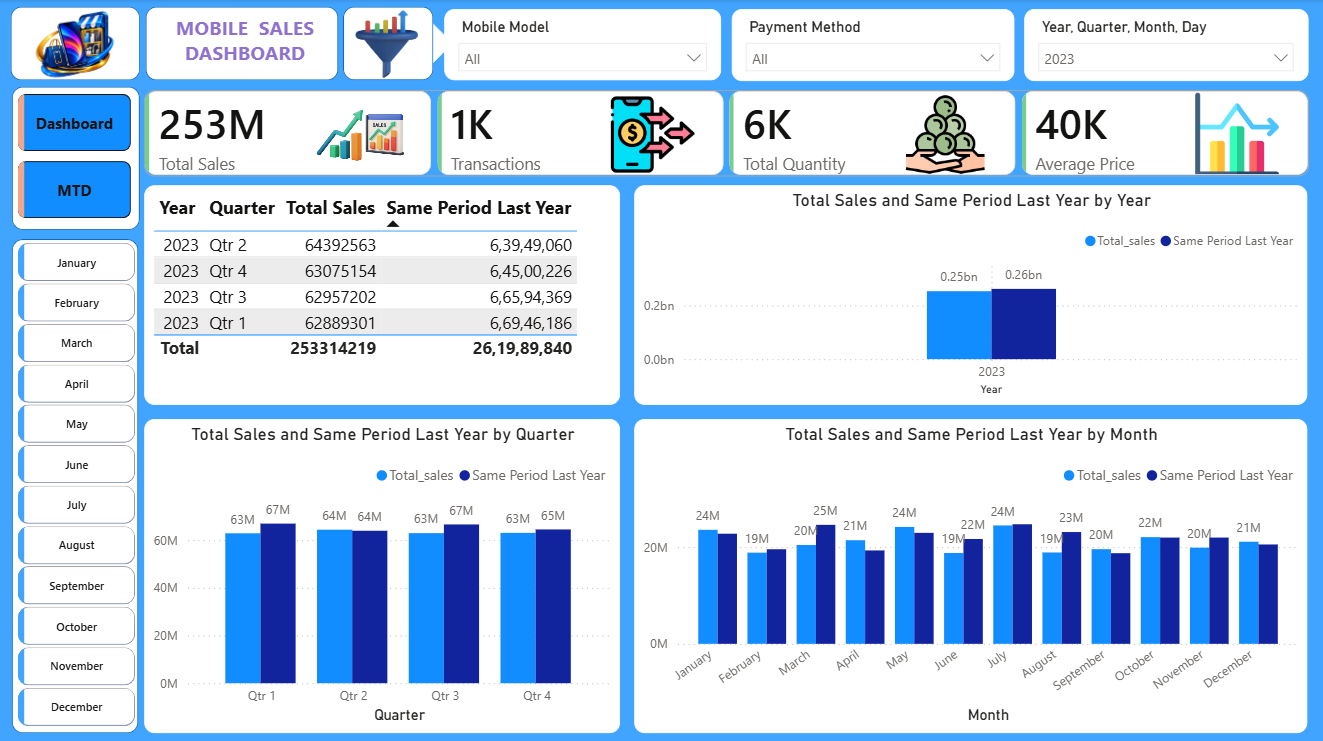

The dashboard page shown, as its layout file describes it:
{"tool":"powerbi","page":{"name":"Same Period Last Year","canvas":[1280,720],"ordinal":2},"visuals":[{"type":"shape","box":[375.6,13.5,64.1,58.9],"z":0},{"type":"shape","box":[11.7,7,125.1,71.4],"z":1000},{"type":"slicer","title":"Mobile Brand","fields":{"Values":["Sales_data.Mobile Model"]},"box":[430.1,9.4,267.3,68.5],"z":2000},{"type":"image","box":[21,120.4,118.8,63.1],"z":3000},{"type":"slicer","title":"Mobile Brand","fields":{"Values":["Sales_data.Payment Method"]},"box":[708.3,9.4,272.7,69.9],"z":4000},{"type":"shape","box":[13.1,84.1,123.6,138.6],"z":5000},{"type":"slicer","title":"Mobile Brand","fields":{"Values":["Custom_Calender.Date.Variation.Date Hierarchy.Year","Custom_Calender.Date.Variation.Date Hierarchy.Quarter","Custom_Calender.Date.Variation.Date Hierarchy.Month","Custom_Calender.Date.Variation.Date Hierarchy.Day"]},"box":[990.5,9.4,274.1,69.9],"z":6000},{"type":"shape","box":[333.3,6.7,87.3,71.3],"z":7000},{"type":"image","box":[329.2,9.4,91.4,68.5],"z":8000},{"type":"shape","box":[142.4,7,186.2,71.4],"z":9000},{"type":"image","box":[17.4,9.8,113.2,72.6],"z":10000},{"type":"textbox","box":[129.6,9.8,218.8,70],"z":11000},{"type":"shape","box":[13.1,231.2,122.2,477.1],"z":12000},{"type":"tableEx","fields":{"Values":["Custom_Calender.Date.Variation.Date Hierarchy.Year","Custom_Calender.Date.Variation.Date Hierarchy.Quarter","Sales_data.Total_sales","Sales_data.Same Period Last Year"]},"box":[141.7,179.8,459.3,211.7],"z":13000},{"type":"clusteredColumnChart","title":"Total Sales and Same Period Last Year by Year","fields":{"Category":["Custom_Calender.Date.Variation.Date Hierarchy.Year","Custom_Calender.Date.Variation.Date Hierarchy.Quarter"],"Y":["Sales_data.Total_sales","Sales_data.Same Period Last Year"]},"box":[614.2,179.8,649.9,211.7],"z":14000},{"type":"clusteredColumnChart","title":"Total Sales and Same Period Last Year by Quarter","fields":{"Category":["Custom_Calender.Date.Variation.Date Hierarchy.Year","Custom_Calender.Date.Variation.Date Hierarchy.Quarter"],"Y":["Sales_data.Total_sales","Sales_data.Same Period Last Year"]},"box":[141.7,404.8,459.3,303.3],"z":15000},{"type":"clusteredColumnChart","title":"Total Sales and Same Period Last Year by Month","fields":{"Category":["Custom_Calender.Date.Variation.Date Hierarchy.Year","Custom_Calender.Date.Variation.Date Hierarchy.Quarter","Custom_Calender.Date.Variation.Date Hierarchy.Month"],"Y":["Sales_data.Total_sales","Sales_data.Same Period Last Year"]},"box":[614.2,404.8,649.9,303.3],"z":16000},{"type":"pageNavigator","box":[19,91.5,109.4,121.7],"z":17000},{"type":"cardVisual","fields":{"Data":["Sales_data.Total_sales","Sales_data.Transcations","Sales_data.Total_Quantity","Sales_data.Average_price"]},"box":[129.6,75.5,1151.1,107.1],"z":18000},{"type":"advancedSlicerVisual","fields":{"Values":["Custom_Calender.Date.Variation.Date Hierarchy.Month"]},"box":[14.5,230.3,123.1,486.2],"z":19000}]}

Visuals, with their boxes in screenshot pixels (x1, y1, x2, y2), scaled from the page's 1280x720 canvas onto the 1323x741 screenshot:
shape: left=388, top=14, right=454, bottom=75
shape: left=12, top=7, right=141, bottom=81
"Mobile Brand" slicer: left=445, top=10, right=721, bottom=80
image: left=22, top=124, right=144, bottom=189
"Mobile Brand" slicer: left=732, top=10, right=1014, bottom=82
shape: left=14, top=87, right=141, bottom=229
"Mobile Brand" slicer: left=1024, top=10, right=1307, bottom=82
shape: left=344, top=7, right=435, bottom=80
image: left=340, top=10, right=435, bottom=80
shape: left=147, top=7, right=340, bottom=81
image: left=18, top=10, right=135, bottom=85
textbox: left=134, top=10, right=360, bottom=82
shape: left=14, top=238, right=140, bottom=729
tableEx - Custom_Calender.Date.Variation.Date Hierarchy.Year x Custom_Calender.Date.Variation.Date Hierarchy.Quarter: left=146, top=185, right=621, bottom=403
"Total Sales and Same Period Last Year by Year" clusteredColumnChart: left=635, top=185, right=1307, bottom=403
"Total Sales and Same Period Last Year by Quarter" clusteredColumnChart: left=146, top=417, right=621, bottom=729
"Total Sales and Same Period Last Year by Month" clusteredColumnChart: left=635, top=417, right=1307, bottom=729
pageNavigator: left=20, top=94, right=133, bottom=219
cardVisual - Sales_data.Total_sales x Sales_data.Transcations: left=134, top=78, right=1322, bottom=188
advancedSlicerVisual - Custom_Calender.Date.Variation.Date Hierarchy.Month: left=15, top=237, right=142, bottom=737
